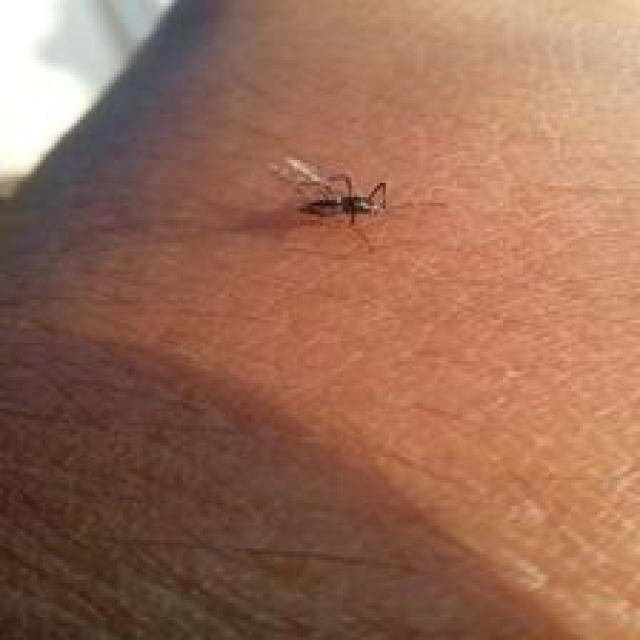Aedes albopictus: (267, 153, 390, 227)
